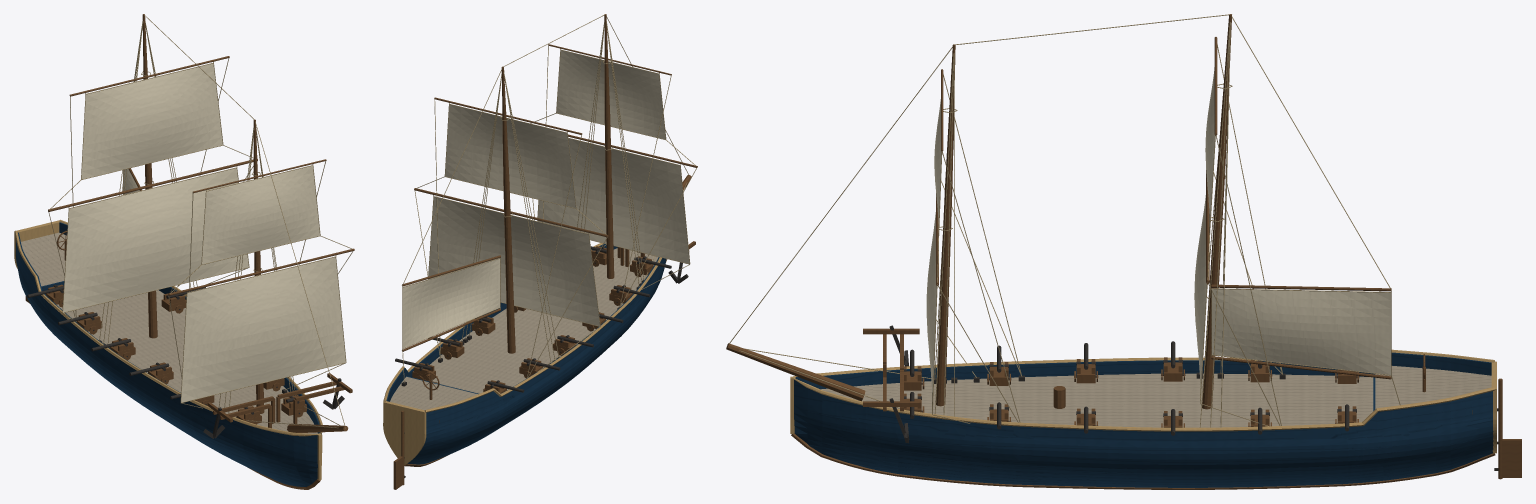
The picture shows the model from 3 angles, left to right: view 1: azimuth 30°, elevation 25°; view 2: azimuth 150°, elevation 25°; view 3: azimuth 270°, elevation 25°; orthographic projection. The views are drawn at different scales.
Parts seen in each view (by area): view 1: lod2_fore_square_00, lod2_main_square_00, lod2_main_square_01, lod2_hull_shell_starboard, lod2_fore_square_01, lod2_main_deck, lod2_castle_deck_0, lod2_gunwale_starboard, lod2_main, lod2_main_square_00_yard, lod2_stern_closure, lod2_fore_square_00_yard (+5 smaller); view 2: lod2_main_square_00, lod2_fore_square_00, lod2_main_square_01, lod2_main_deck, lod2_hull_shell_starboard, lod2_fore_square_01, lod2_main_gaff_02, lod2_stern_closure, lod2_main, lod2_fore, lod2_castle_deck_0, lod2_gunwale_starboard (+8 smaller); view 3: lod2_hull_shell_port, lod2_main_deck, lod2_main_gaff_02, lod2_hull_shell_starboard, lod2_castle_deck_0, lod2_gunwale_port, lod2_main, lod2_fore, lod2_keel, lod2_gunwale_starboard, lod2_bowsprit, lod2_main_square_00 (+2 smaller).
Boxes of the visible parts, x1=… form: lod2_fore_square_00: x1=181, y1=257, x2=345, y2=402; lod2_main_square_00: x1=63, y1=168, x2=248, y2=312; lod2_main_square_01: x1=81, y1=63, x2=222, y2=179; lod2_hull_shell_starboard: x1=16, y1=232, x2=317, y2=486; lod2_fore_square_01: x1=202, y1=165, x2=319, y2=264; lod2_main_deck: x1=56, y1=290, x2=317, y2=433; lod2_castle_deck_0: x1=21, y1=232, x2=66, y2=286; lod2_gunwale_starboard: x1=14, y1=230, x2=317, y2=436; lod2_main: x1=142, y1=14, x2=157, y2=338; lod2_main_square_00_yard: x1=48, y1=159, x2=257, y2=211; lod2_stern_closure: x1=14, y1=220, x2=59, y2=269; lod2_fore_square_00_yard: x1=168, y1=248, x2=354, y2=295; lod2_main_square_00: x1=428, y1=197, x2=599, y2=326; lod2_fore_square_00: x1=537, y1=138, x2=689, y2=263; lod2_main_square_01: x1=445, y1=104, x2=575, y2=208; lod2_main_deck: x1=430, y1=248, x2=658, y2=393; lod2_hull_shell_starboard: x1=407, y1=257, x2=666, y2=464; lod2_fore_square_01: x1=556, y1=50, x2=665, y2=139; lod2_main_gaff_02: x1=403, y1=259, x2=499, y2=348; lod2_stern_closure: x1=383, y1=401, x2=426, y2=464; lod2_main: x1=501, y1=66, x2=515, y2=353; lod2_fore: x1=604, y1=14, x2=614, y2=278; lod2_castle_deck_0: x1=390, y1=376, x2=477, y2=410; lod2_gunwale_starboard: x1=424, y1=257, x2=661, y2=412; lod2_hull_shell_port: x1=794, y1=379, x2=1493, y2=487; lod2_main_deck: x1=821, y1=373, x2=1373, y2=427; lod2_main_gaff_02: x1=1212, y1=289, x2=1390, y2=374; lod2_hull_shell_starboard: x1=795, y1=352, x2=1491, y2=389; lod2_castle_deck_0: x1=1375, y1=366, x2=1491, y2=408; lod2_gunwale_port: x1=793, y1=378, x2=1494, y2=431; lod2_main: x1=1202, y1=14, x2=1231, y2=409; lod2_fore: x1=936, y1=44, x2=955, y2=406; lod2_keel: x1=791, y1=433, x2=1495, y2=489; lod2_gunwale_starboard: x1=793, y1=349, x2=1494, y2=376; lod2_bowsprit: x1=726, y1=343, x2=865, y2=401; lod2_main_square_00: x1=1194, y1=195, x2=1206, y2=393.
Bounding box in the file's own units: 9.88 × 17.21 × 26.09.
7 materials, 7 textured.
